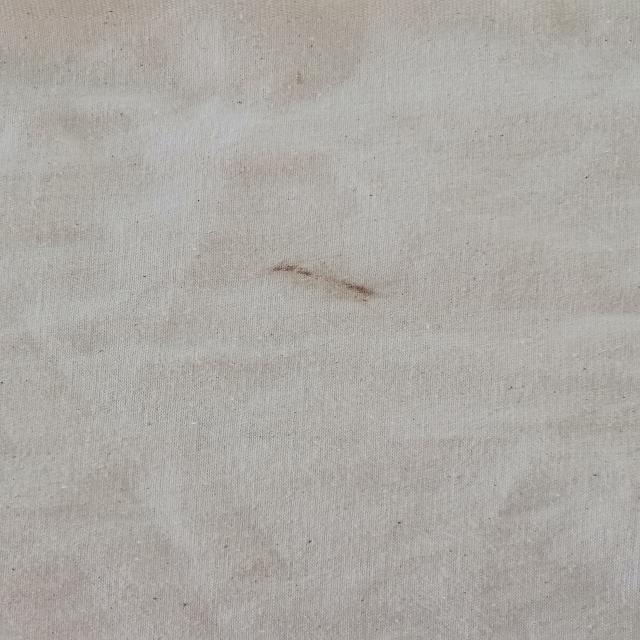taaaches: (243, 248, 400, 315)
